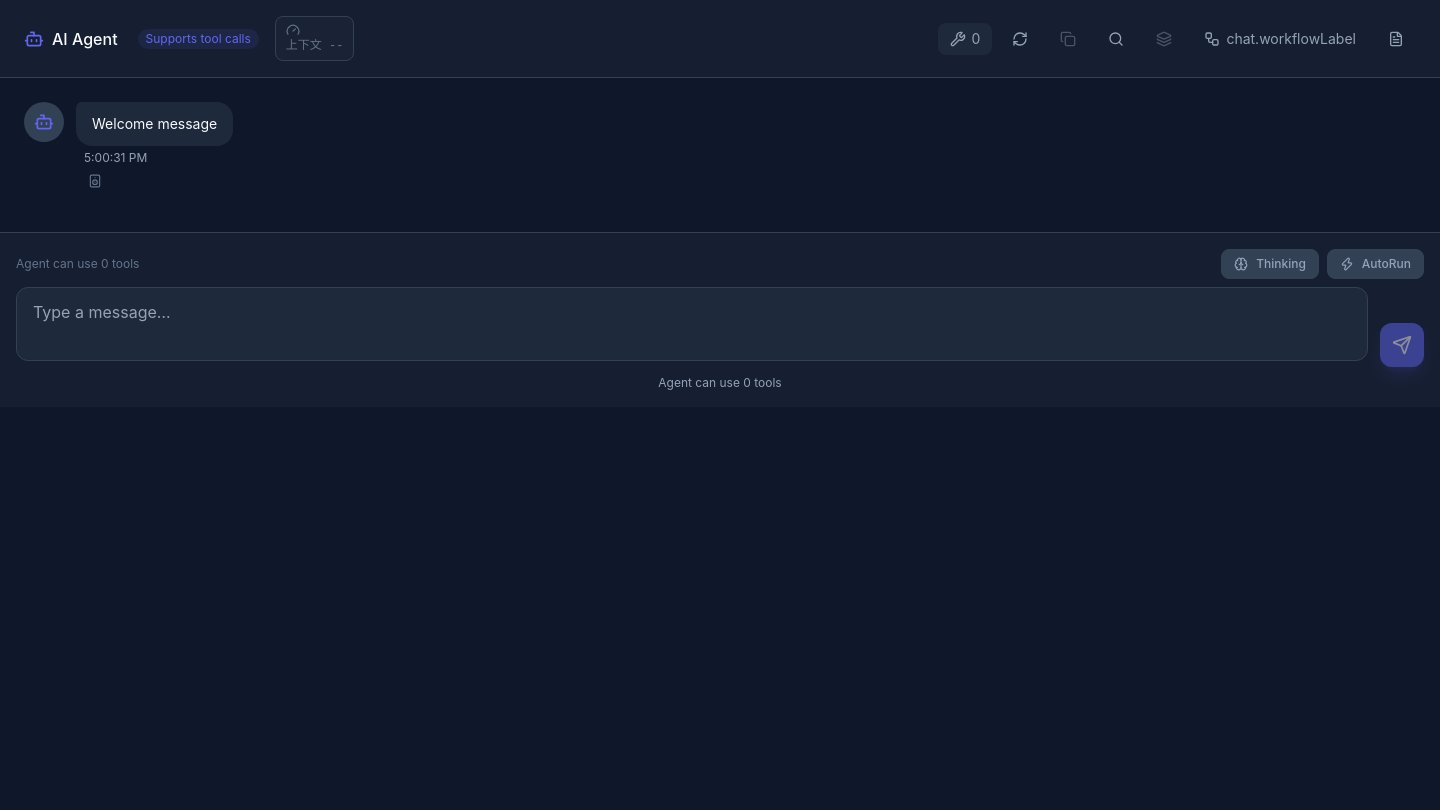
AgentChat › renders a tool_result event as a message bubble
This screenshot has width=1440, height=810.
Step 1. Type "run" into the text box with placeholder "Type a message…" → (692, 324), box [16,287,1368,361]
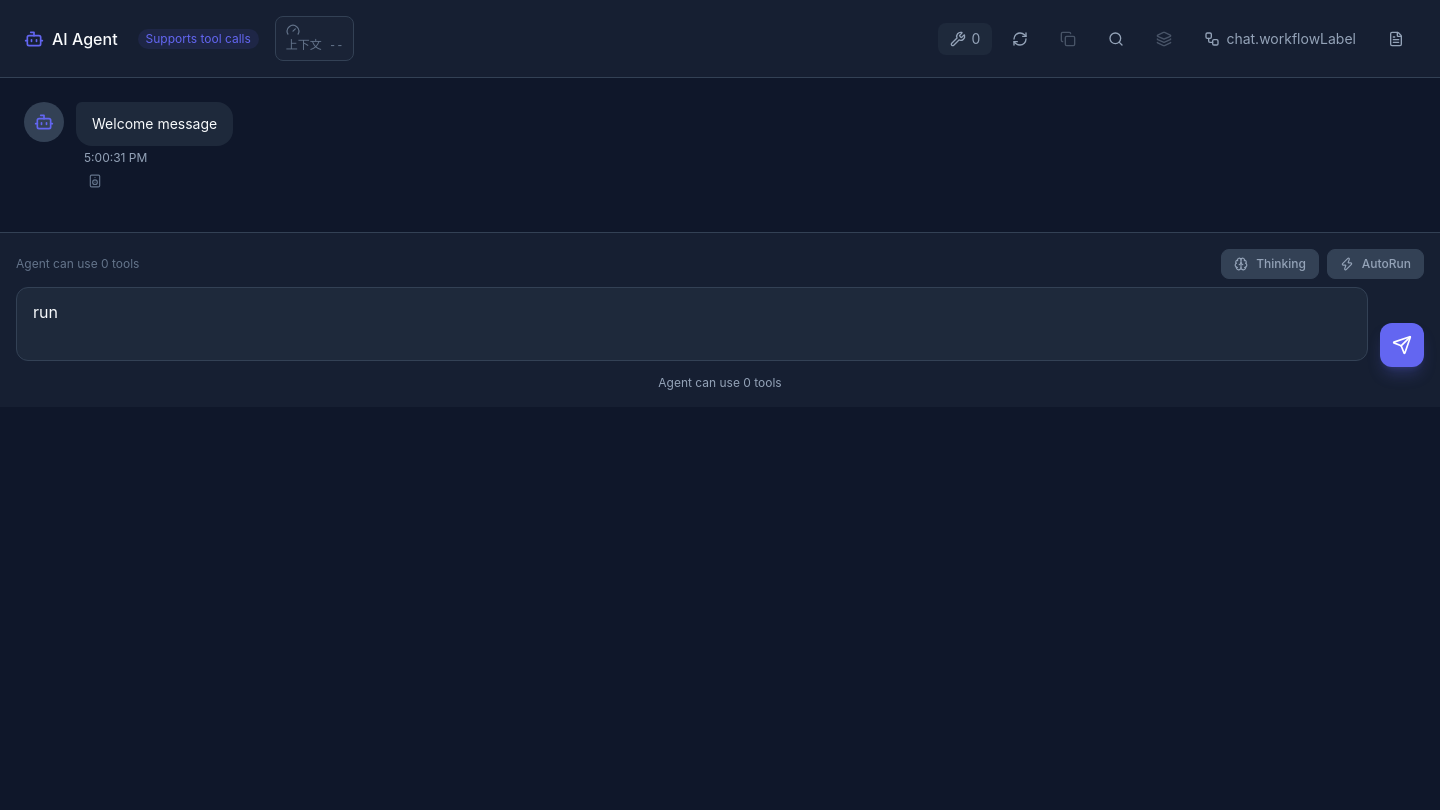
Step 2. Click the button titled "Send" → (1402, 345), box [1380,323,1424,367]
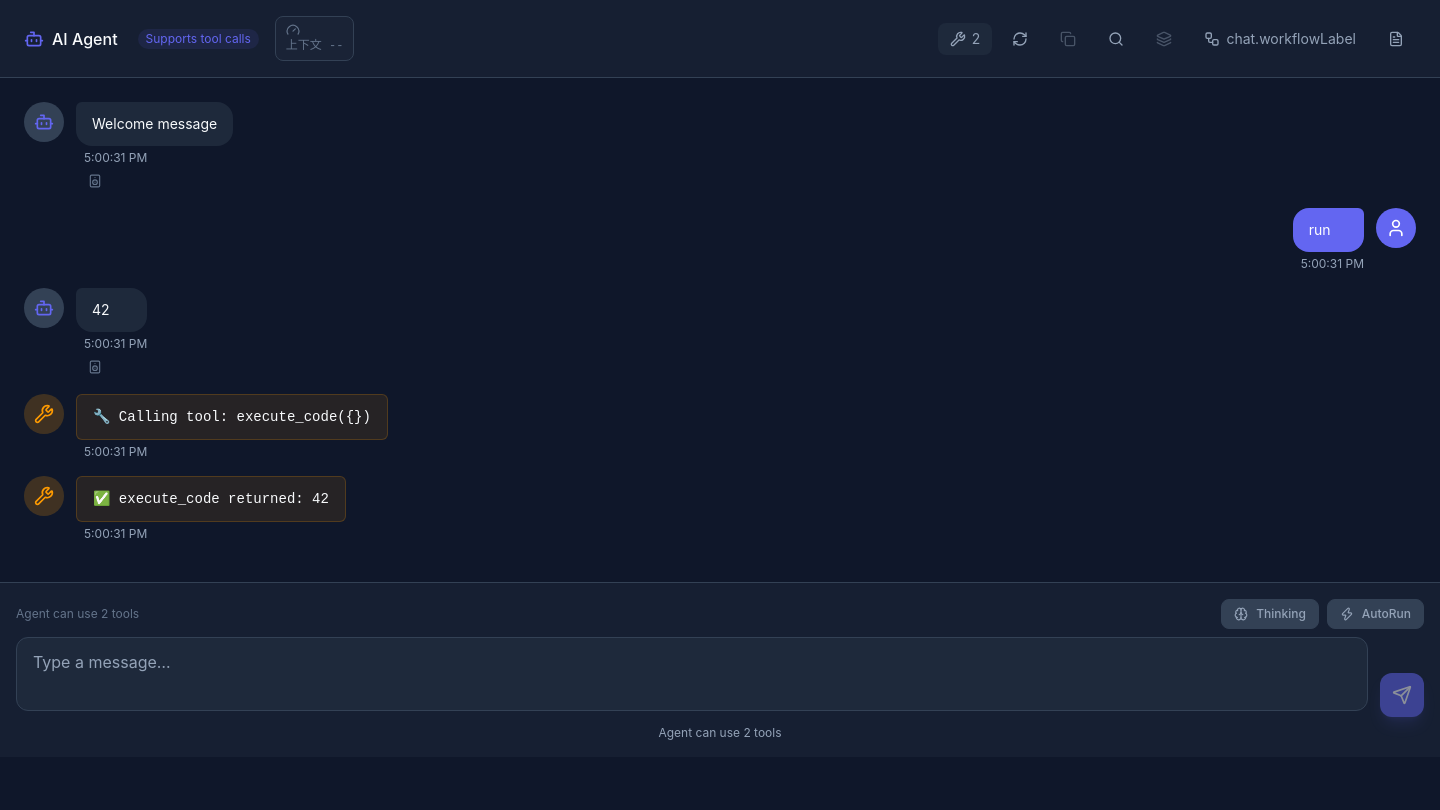
Now the text "✅ execute_code returned: 42" is shown, box [93,489,329,509]
